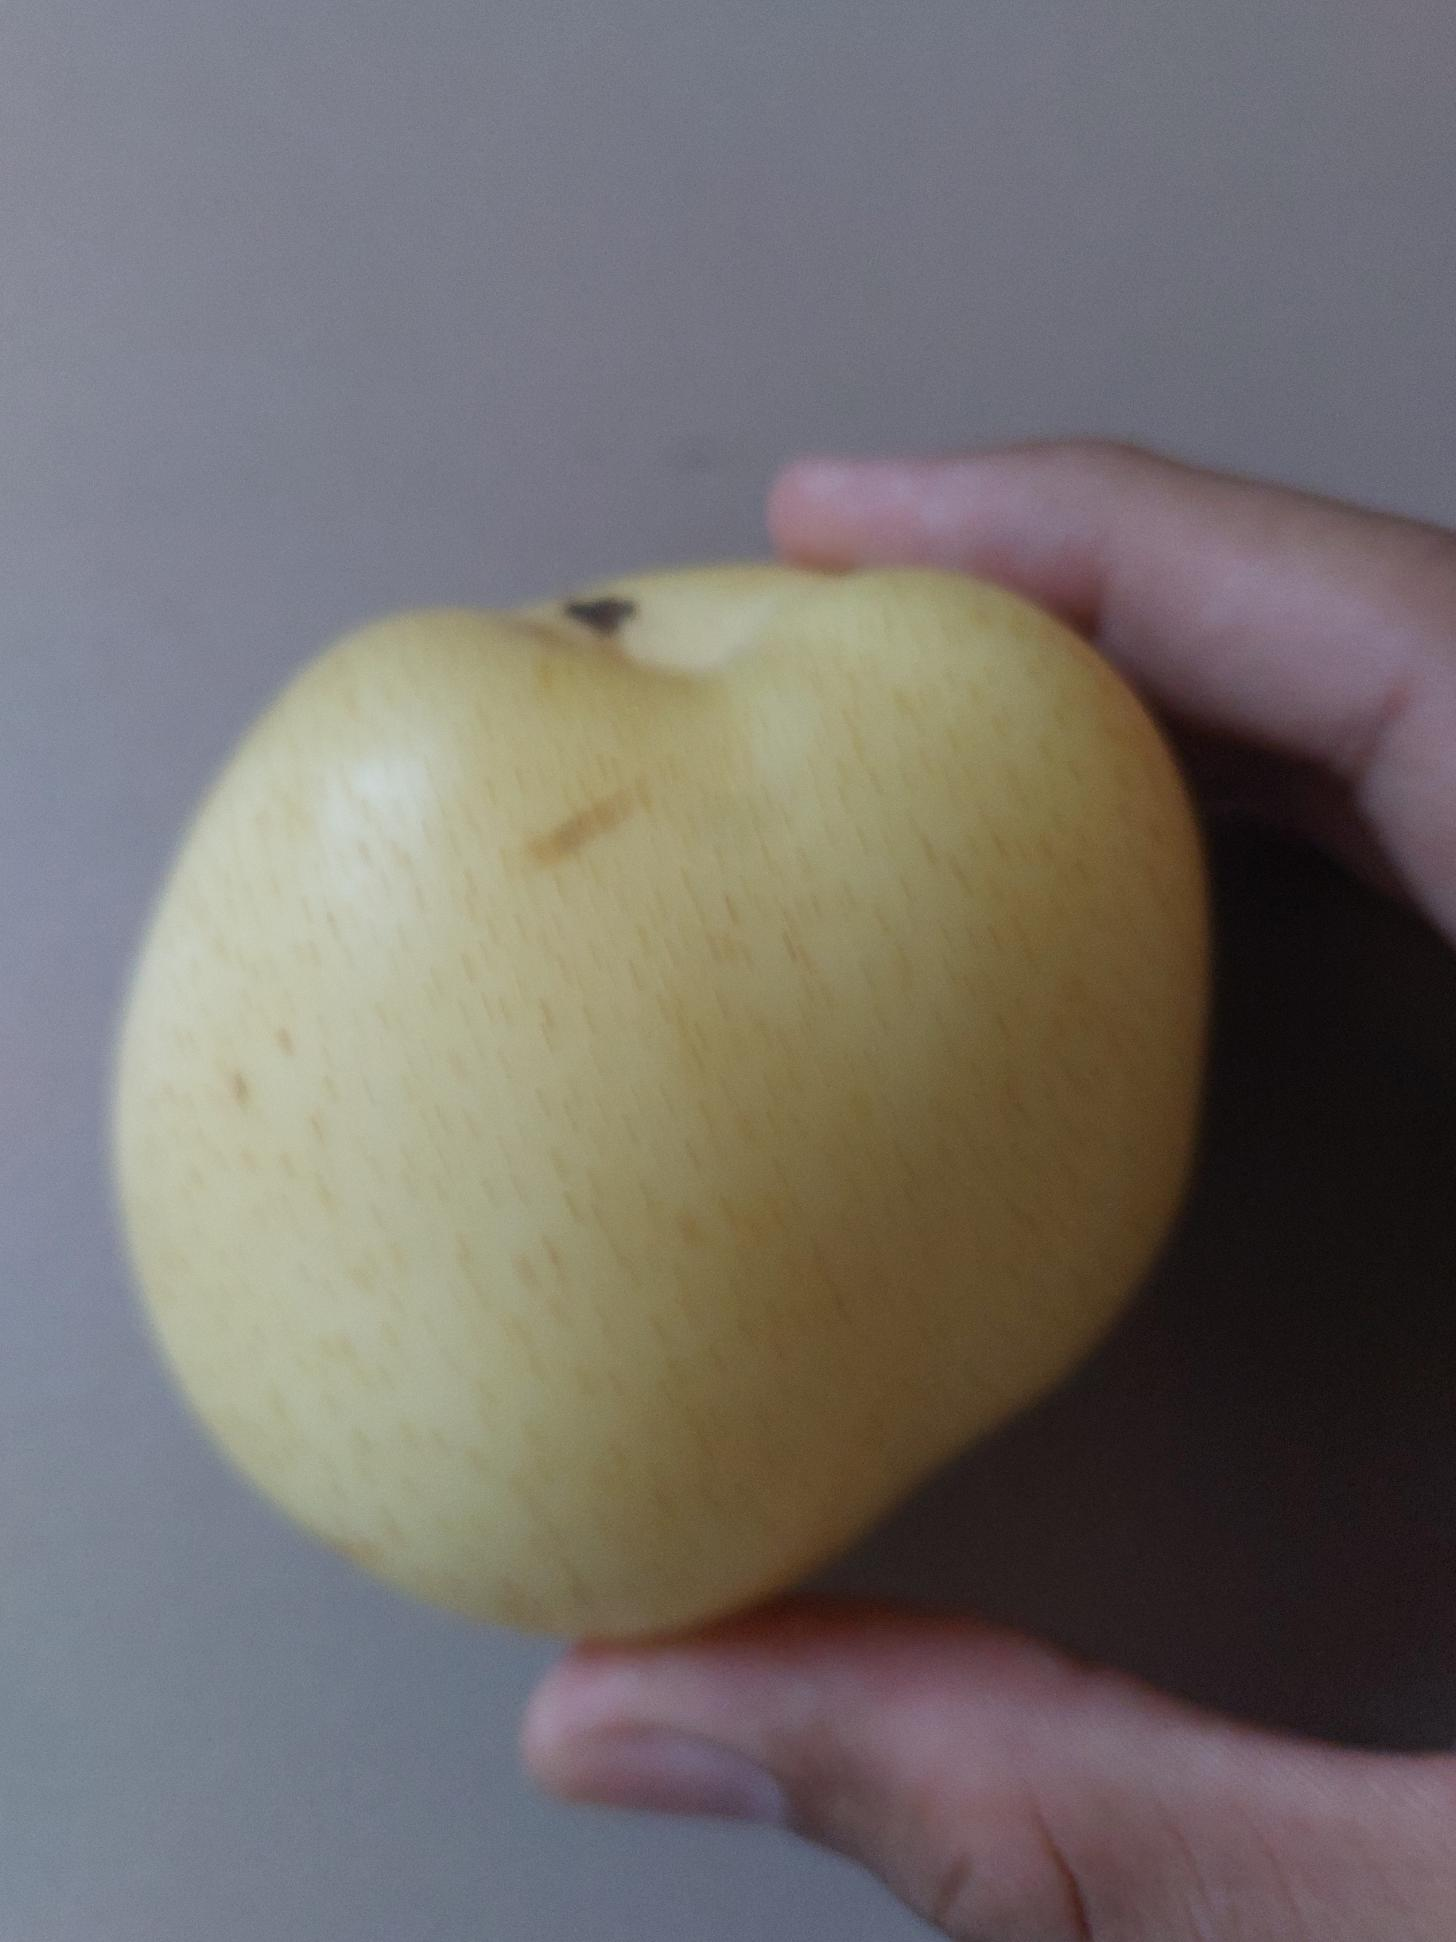Good Pear: (101, 566, 1207, 1642)
